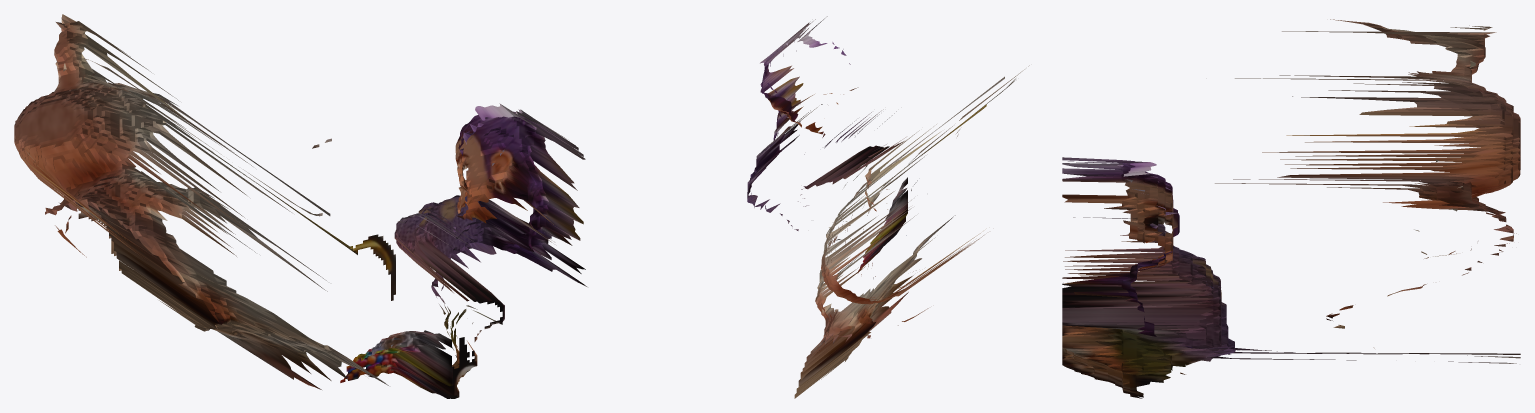
The model's file is frame_00296.glb.
The picture shows the model from 3 angles, left to right: view 1: azimuth 30°, elevation 25°; view 2: azimuth 150°, elevation 25°; view 3: azimuth 270°, elevation 25°; orthographic projection. The views are drawn at different scales.
Visible parts, largest first — view 1: geometry_0; view 2: geometry_0; view 3: geometry_0.
Part boxes in pixels (x1,y1,x2,y2): geometry_0: (14, 14, 586, 398); geometry_0: (747, 16, 1029, 398); geometry_0: (1062, 19, 1520, 398).
Bounding box in the file's own units: 0.1397 × 0.1094 × 0.16.
1 material, 1 textured.
